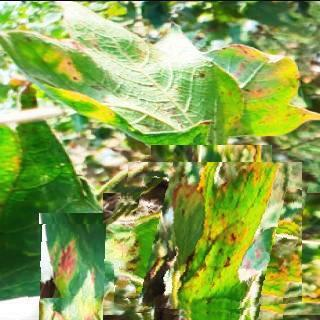blight: (119, 161, 302, 320), (28, 223, 114, 309)
